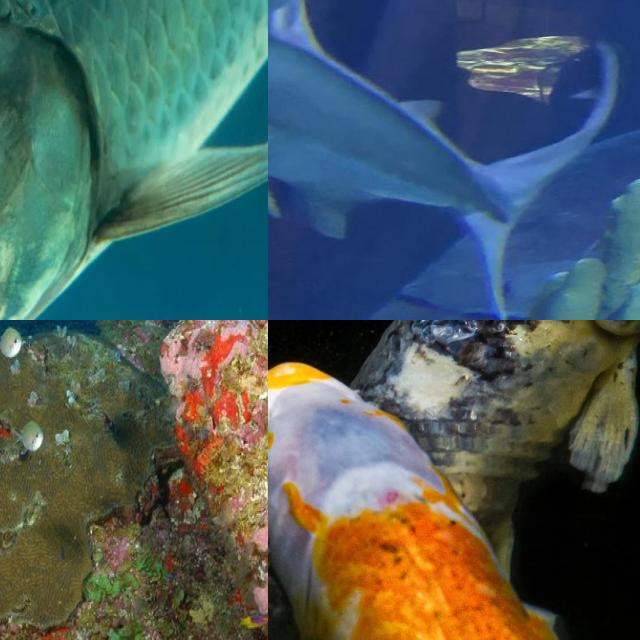fish: (268, 0, 618, 320), (0, 0, 268, 320)
